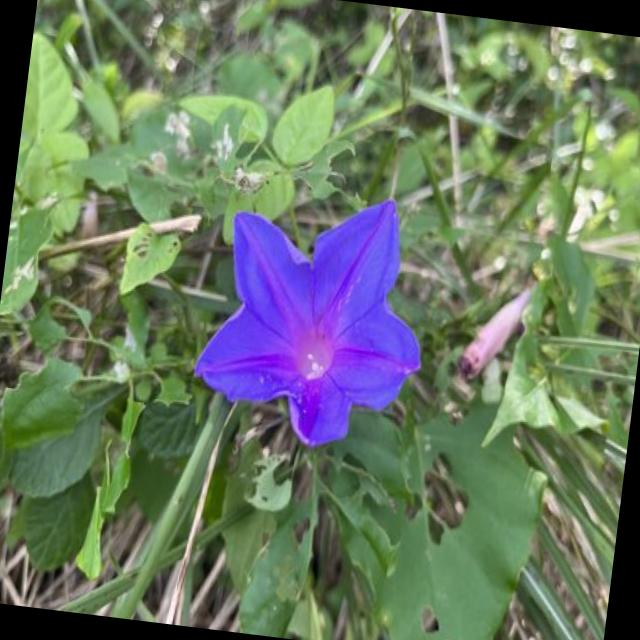ipomoea: (182, 173, 443, 464)
